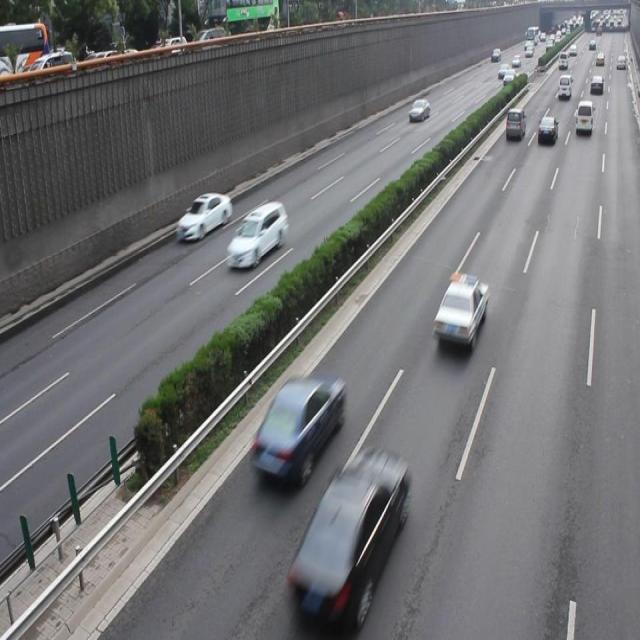car: (290, 449, 406, 609), (248, 373, 344, 489), (431, 273, 487, 353), (224, 201, 286, 268), (175, 189, 231, 241)
